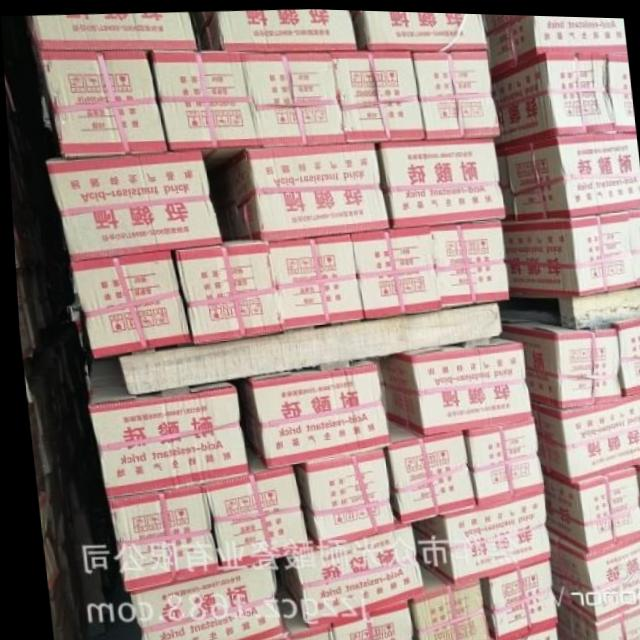box: (83, 358, 245, 497), (45, 149, 222, 261), (235, 357, 387, 468), (218, 143, 388, 241), (375, 334, 528, 433), (271, 526, 417, 624), (39, 49, 168, 158), (66, 249, 187, 360), (407, 490, 546, 585), (198, 451, 306, 571), (495, 129, 640, 218), (101, 480, 212, 593), (125, 560, 277, 640), (374, 134, 504, 227), (171, 238, 278, 347), (491, 49, 615, 143), (501, 209, 634, 293), (149, 49, 257, 151), (496, 315, 618, 404), (240, 48, 345, 147), (527, 390, 640, 479), (286, 443, 387, 541), (380, 416, 471, 523), (265, 231, 361, 330), (538, 461, 639, 549), (541, 528, 640, 617), (332, 49, 425, 142), (481, 11, 625, 70), (348, 223, 439, 315), (411, 48, 500, 137), (25, 12, 197, 56), (427, 215, 506, 306), (189, 7, 358, 49), (459, 414, 539, 502), (403, 560, 484, 640), (472, 557, 549, 640), (349, 8, 489, 50), (248, 577, 325, 640), (548, 592, 640, 640), (321, 595, 409, 640), (608, 315, 640, 394), (606, 47, 635, 131), (626, 204, 640, 283), (629, 458, 640, 531)
